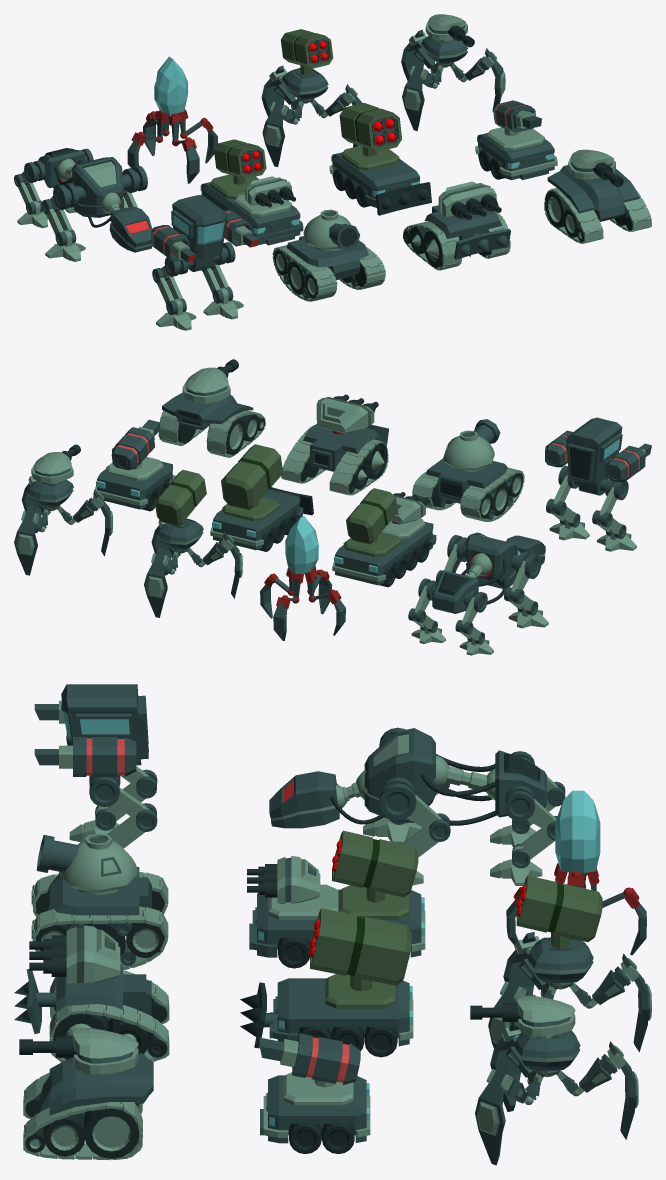
3 renders of one model, top to bottom at view 1: azimuth 30°, elevation 25°; view 2: azimuth 150°, elevation 25°; view 3: azimuth 270°, elevation 25°, orthographic. The views are drawn at different scales.
Parts seen in each view (by area): view 1: tank base1_135, Cube.028_231, Cube.044_27, Cube.053_3, Cube.064_45, Cube.055_109, Cube.034_232, tank track1.002_144, Cube.057_120, tank track1_128, Cube_154, Cube.046_38 (+35 smaller); view 2: Cube.028_231, Cube.057_120, Cube.055_109, Cube.064_45, tank track1.001_136, tanktop2_141, Cube.068_61, Cube.090_71, Cube.053_3, tank base1_135, Cube.034_232, Cube_154 (+37 smaller); view 3: Cube.057_120, Cube.055_109, Cube.028_231, tank base1_135, Cube.090_71, Cube.068_61, Cube.044_27, Cube.053_3, Cube.034_232, Cube.062_5, Cube.064_45, Cube.046_38 (+50 smaller).
Part boxes in pixels (x1=…): tank base1_135: x1=547, y1=165, x2=639, y2=221; Cube.028_231: x1=171, y1=195, x2=227, y2=259; Cube.044_27: x1=71, y1=157, x2=123, y2=217; Cube.053_3: x1=475, y1=133, x2=557, y2=180; Cube.064_45: x1=199, y1=182, x2=303, y2=245; Cube.055_109: x1=329, y1=152, x2=419, y2=207; Cube.034_232: x1=151, y1=209, x2=258, y2=262; tank track1.002_144: x1=272, y1=245, x2=385, y2=301; Cube.057_120: x1=339, y1=103, x2=401, y2=151; tank track1_128: x1=544, y1=188, x2=651, y2=243; Cube_154: x1=286, y1=236, x2=368, y2=280; Cube.046_38: x1=109, y1=206, x2=152, y2=252; Cube.028_231: x1=566, y1=417, x2=622, y2=484; Cube.057_120: x1=221, y1=444, x2=282, y2=510; Cube.055_109: x1=210, y1=489, x2=303, y2=550; Cube.064_45: x1=332, y1=521, x2=436, y2=585; tank track1.001_136: x1=281, y1=425, x2=388, y2=495; tanktop2_141: x1=303, y1=424, x2=379, y2=471; Cube.068_61: x1=346, y1=488, x2=397, y2=544; Cube.090_71: x1=154, y1=470, x2=206, y2=525; Cube.053_3: x1=95, y1=461, x2=175, y2=509; tank base1_135: x1=162, y1=392, x2=253, y2=429; Cube.034_232: x1=545, y1=430, x2=651, y2=482; Cube_154: x1=426, y1=458, x2=507, y2=503; Cube.057_120: x1=310, y1=908, x2=411, y2=985; Cube.055_109: x1=269, y1=978, x2=413, y2=1046; Cube.028_231: x1=61, y1=684, x2=148, y2=765; tank base1_135: x1=40, y1=1053, x2=153, y2=1116; Cube.090_71: x1=516, y1=875, x2=602, y2=942; Cube.068_61: x1=332, y1=830, x2=418, y2=897; Cube.044_27: x1=364, y1=728, x2=435, y2=822; Cube.053_3: x1=260, y1=1075, x2=370, y2=1143; Cube.034_232: x1=34, y1=700, x2=136, y2=776; Cube.062_5: x1=259, y1=1033, x2=360, y2=1084; Cube.064_45: x1=249, y1=889, x2=425, y2=957; Cube.046_38: x1=269, y1=771, x2=339, y2=828.
Bounding box in the file's own units: 48.47 × 11.21 × 36.99.
1 material, 1 textured.
